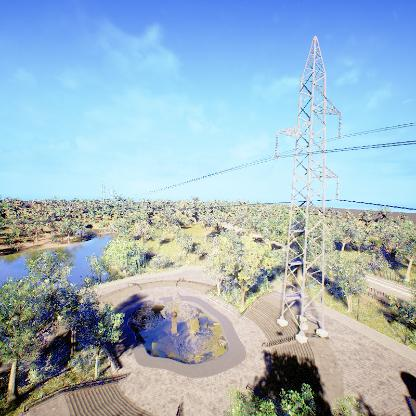tower: (269, 32, 346, 342)
